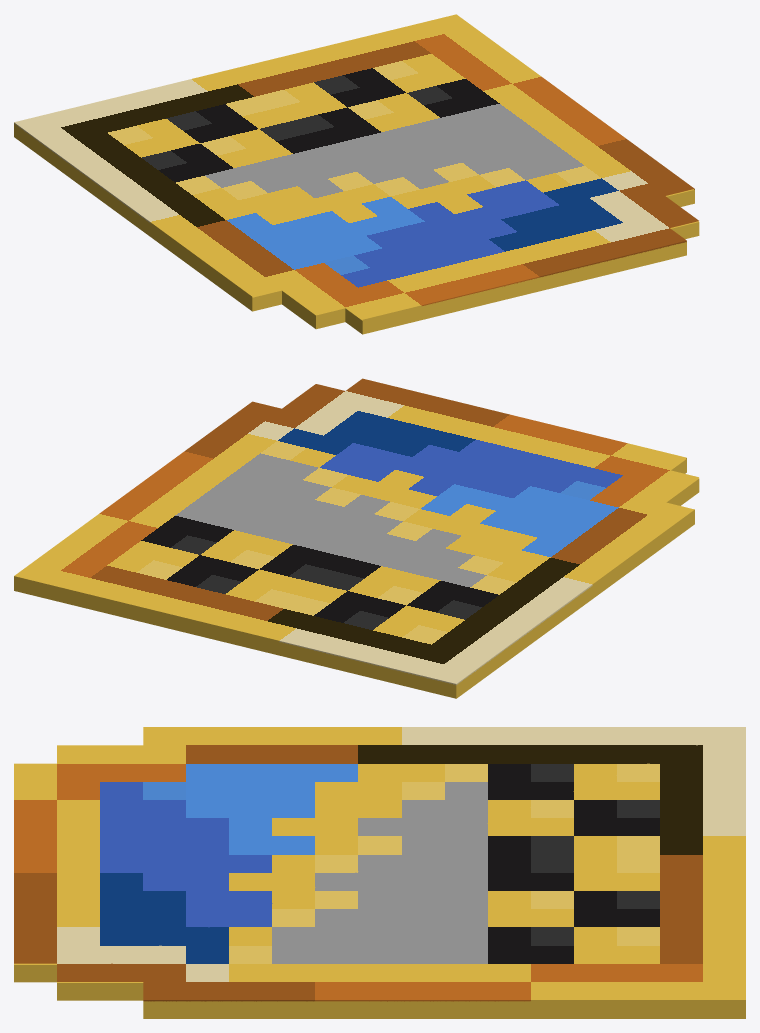
The model's file is CMU3DAU14Patch525thAIBInsigniaExtraCloud.glb.
3 views of the same model, one above another, from view 1: azimuth 30°, elevation 25°; view 2: azimuth 150°, elevation 25°; view 3: azimuth 270°, elevation 25° (orthographic). The views are drawn at different scales.
Parts seen in each view (by area): view 1: Original embroidered face over shaped cloth backing, Cloth backing exact contour 2, Cloth backing exact contour 0, Cloth backing exact contour 1; view 2: Original embroidered face over shaped cloth backing, Cloth backing exact contour 0; view 3: Original embroidered face over shaped cloth backing, Cloth backing exact contour 0, Cloth backing exact contour 1, Cloth backing exact contour 2.
Boxes of the visible parts, box(x1,y1,x2,y2) form: Original embroidered face over shaped cloth backing: box(14, 14, 698, 320); Cloth backing exact contour 2: box(345, 241, 686, 334); Cloth backing exact contour 0: box(14, 123, 694, 311); Cloth backing exact contour 1: box(282, 221, 699, 329); Original embroidered face over shaped cloth backing: box(14, 378, 698, 685); Cloth backing exact contour 0: box(14, 511, 694, 698); Original embroidered face over shaped cloth backing: box(14, 727, 745, 1001); Cloth backing exact contour 0: box(143, 1001, 745, 1018); Cloth backing exact contour 1: box(57, 982, 143, 1000); Cloth backing exact contour 2: box(14, 963, 56, 982).
Size of the model in its own units: 0.4688 by 0.015 by 0.5312.
Materials: 2 (1 with a texture image).
